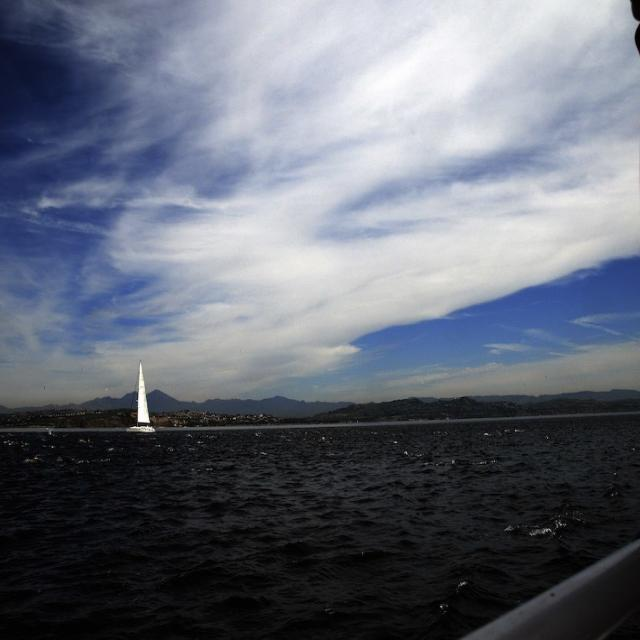Boat: (118, 361, 160, 441)
